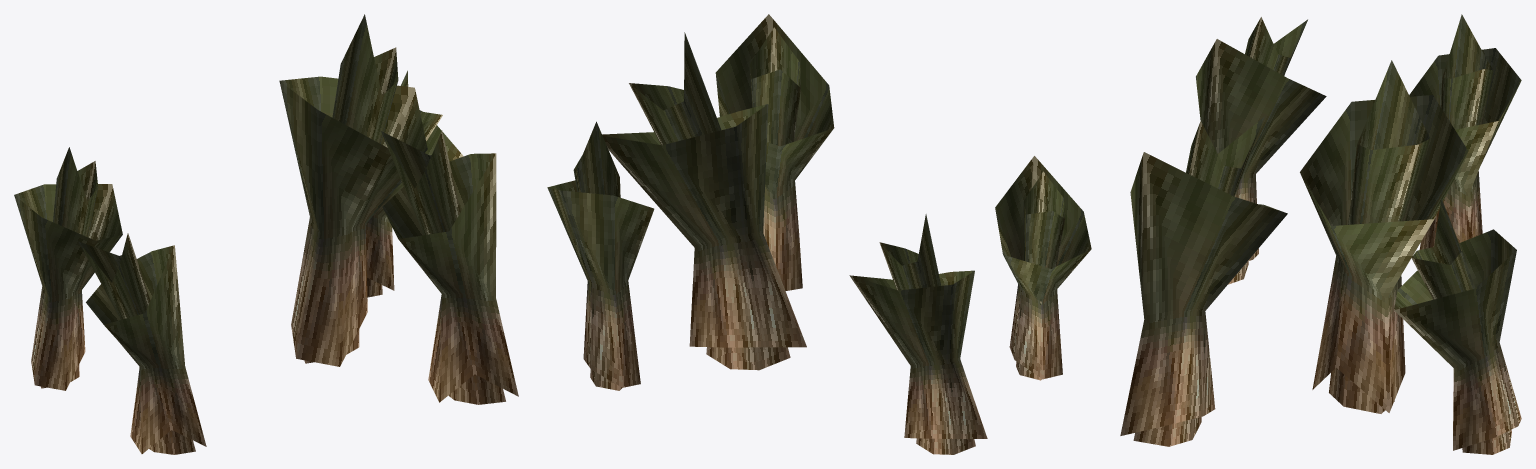
Rendered from Tree09.obj.
The picture shows the model from 3 angles, left to right: view 1: azimuth 30°, elevation 25°; view 2: azimuth 150°, elevation 25°; view 3: azimuth 270°, elevation 25°; orthographic projection. The views are drawn at different scales.
Visible parts, largest first — view 1: Mesh_0; view 2: Mesh_0; view 3: Mesh_0.
Part boxes in pixels (box(x1,y1,x2,y2)): Mesh_0: box(14, 14, 518, 454); Mesh_0: box(547, 14, 1091, 454); Mesh_0: box(1120, 14, 1521, 454).
Size of the model in its own units: 2.71 by 1.92 by 1.9.
Materials: 1 (1 with a texture image).
